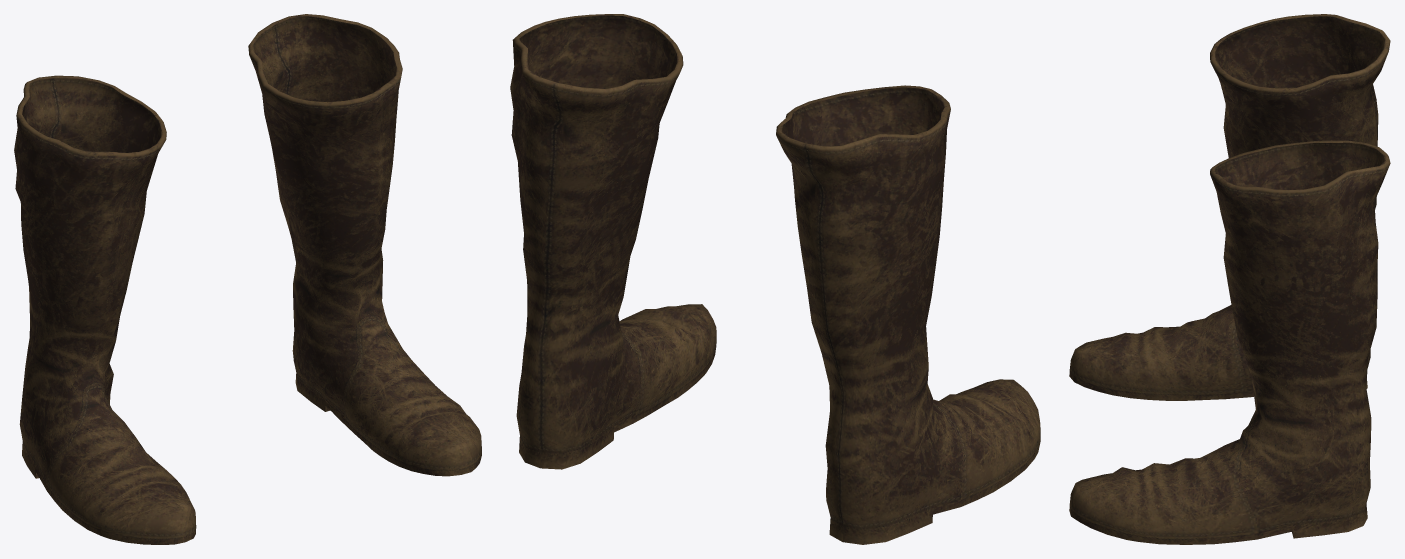
Rendered from swan_knight_boots_light.fbx.
3 renders of one model, left to right at view 1: azimuth 30°, elevation 25°; view 2: azimuth 150°, elevation 25°; view 3: azimuth 270°, elevation 25°, orthographic. The views are drawn at different scales.
Visible parts, largest first — view 1: swan_knight_boots_light; view 2: swan_knight_boots_light; view 3: swan_knight_boots_light.
Boxes of the visible parts, x1,y1,x2,y2 form: swan_knight_boots_light: [14, 14, 481, 544]; swan_knight_boots_light: [510, 14, 1040, 544]; swan_knight_boots_light: [1069, 14, 1390, 544].
Bounding box in the file's own units: 0.4486 × 0.3268 × 0.4021.
Materials: 1 (1 with a texture image).
